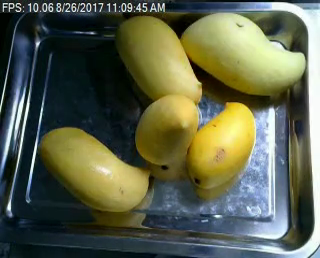Mango: (179, 13, 306, 100), (36, 126, 152, 214), (113, 11, 204, 103), (188, 101, 257, 189), (133, 92, 201, 168)
